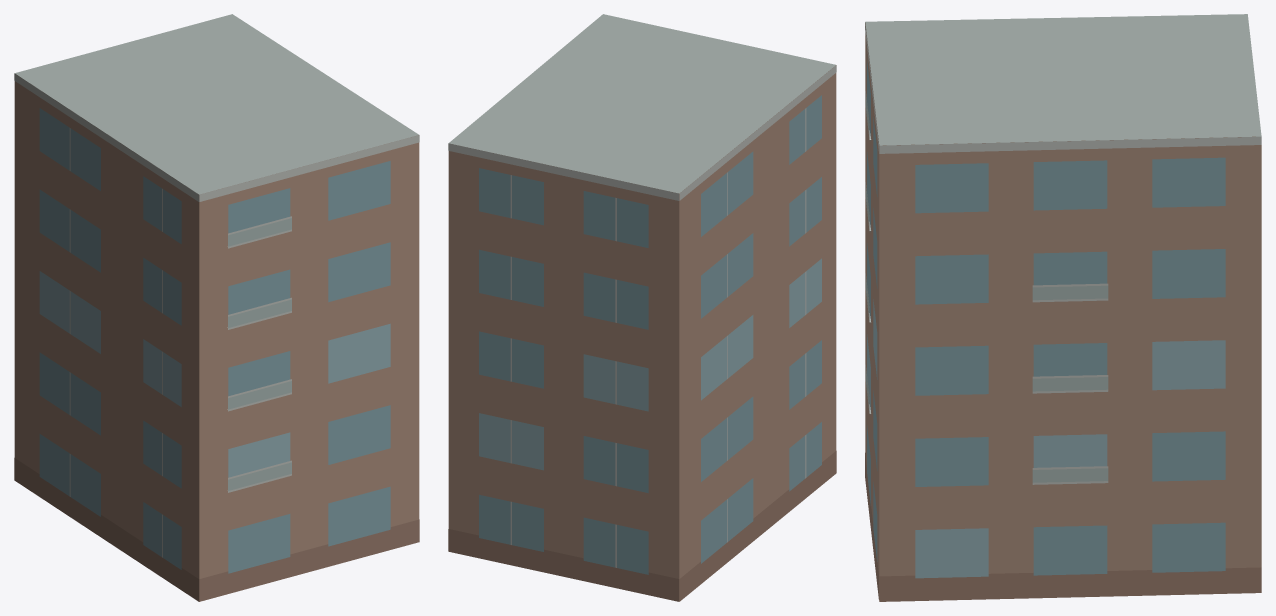
The model's file is survey-upis-32623698.glb.
3 views of the same model, side by side, from view 1: azimuth 30°, elevation 25°; view 2: azimuth 150°, elevation 25°; view 3: azimuth 270°, elevation 25° (orthographic). The views are drawn at different scales.
Visible parts, largest first — view 1: survey-upis-32623698.tmp; view 2: survey-upis-32623698.tmp; view 3: survey-upis-32623698.tmp.
Part boxes in pixels (x1,y1,x2,y2): survey-upis-32623698.tmp: [14, 14, 419, 601]; survey-upis-32623698.tmp: [448, 14, 836, 601]; survey-upis-32623698.tmp: [865, 14, 1261, 601].
Bounding box in the file's own units: 8.17 × 13.2 × 10.4.
